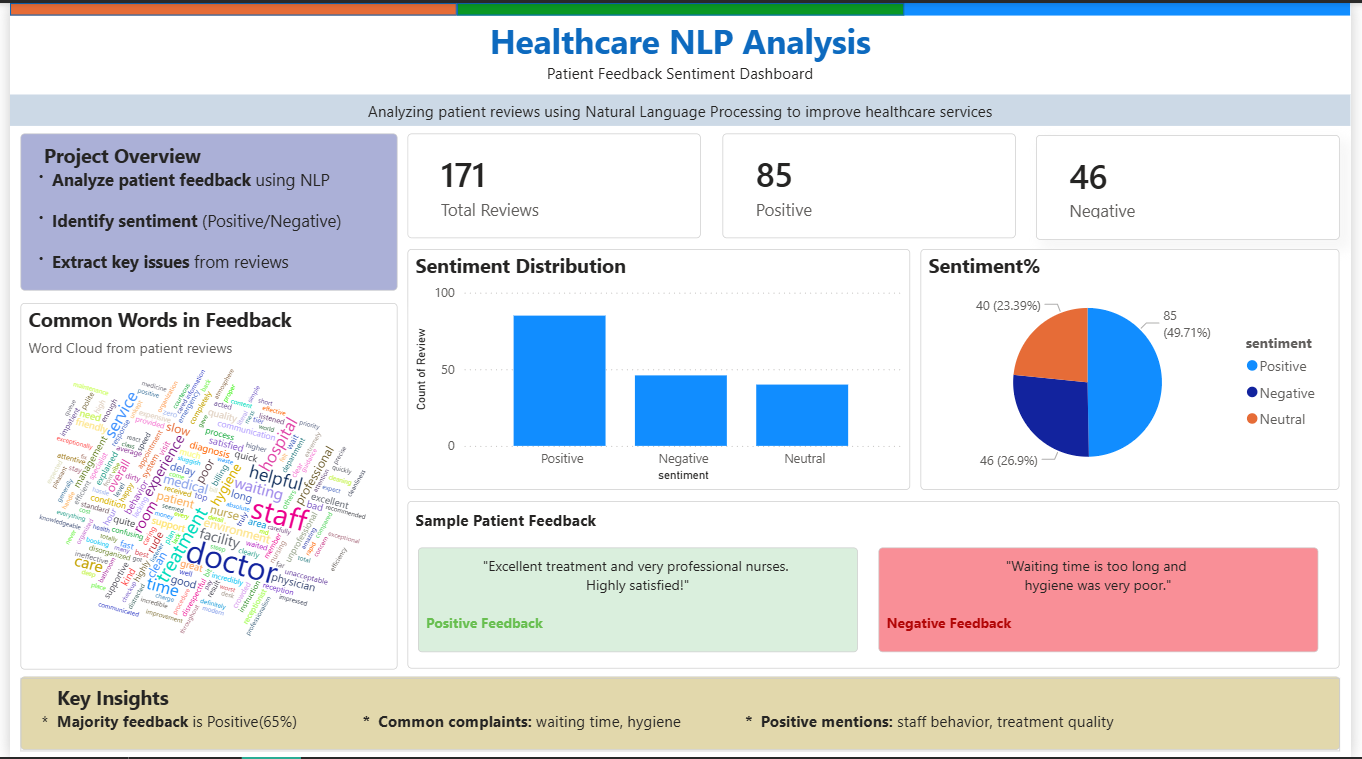

Layout of this report page (visuals, bound fields, positions):
{"tool":"powerbi","page":{"name":"Page 1","canvas":[1280,720],"ordinal":0},"visuals":[{"type":"shape","box":[853.3,0,426,12],"z":0},{"type":"shape","box":[0,0,426.7,12],"z":1000},{"type":"shape","box":[426.7,0,427,12],"z":2000},{"type":"textbox","box":[0,8,1280,80],"z":3000},{"type":"textbox","box":[0,88,1280,30],"z":4000},{"type":"cardVisual","fields":{"Data":["Count(final_healthcare_data.Review)"]},"box":[380,125,280,100],"z":5000},{"type":"cardVisual","fields":{"Data":["final_healthcare_data.Positive Count"]},"box":[680,125,280,100],"z":6000},{"type":"cardVisual","fields":{"Data":["final_healthcare_data.Negative Count"]},"box":[980,126,290,100],"z":7000},{"type":"textbox","box":[10,125,360,150],"z":8000},{"type":"clusteredColumnChart","title":"Sentiment Distributio","fields":{"Category":["final_healthcare_data.sentiment"],"Y":["CountNonNull(final_healthcare_data.Review)"]},"box":[380,235,480,230],"z":9000},{"type":"pieChart","title":"Sentiment%","fields":{"Category":["final_healthcare_data.sentiment"],"Y":["CountNonNull(final_healthcare_data.Review)"]},"box":[870,235,400,230],"z":10000},{"type":"WordCloud1447959067750","title":"Common Words in Feedback","fields":{"Category":["final_healthcare_data.cleaned_review"]},"box":[10,286,360,350],"z":11000},{"type":"textbox","box":[380,476,890,160],"z":13000},{"type":"textbox","box":[390,520,420,100],"z":14000},{"type":"textbox","box":[830,520,420,100],"z":15000},{"type":"shape","box":[10,643,1260,70],"z":15001},{"type":"textbox","box":[10,644,1260,70],"z":15002}]}

Visuals, with their boxes in screenshot pixels (x1, y1, x2, y2), scaled from the page's 1280x720 canvas onto the 1362x759 screenshot:
shape: 908, 0, 1361, 13
shape: 0, 0, 454, 13
shape: 454, 0, 908, 13
textbox: 0, 8, 1361, 93
textbox: 0, 93, 1361, 124
cardVisual - Count(final_healthcare_data.Review): 404, 132, 702, 237
cardVisual - final_healthcare_data.Positive Count: 724, 132, 1021, 237
cardVisual - final_healthcare_data.Negative Count: 1043, 133, 1351, 238
textbox: 11, 132, 394, 290
"Sentiment Distributio" clusteredColumnChart: 404, 248, 915, 490
"Sentiment%" pieChart: 926, 248, 1351, 490
"Common Words in Feedback" WordCloud1447959067750: 11, 301, 394, 670
textbox: 404, 502, 1351, 670
textbox: 415, 548, 862, 654
textbox: 883, 548, 1330, 654
shape: 11, 678, 1351, 752
textbox: 11, 679, 1351, 753
